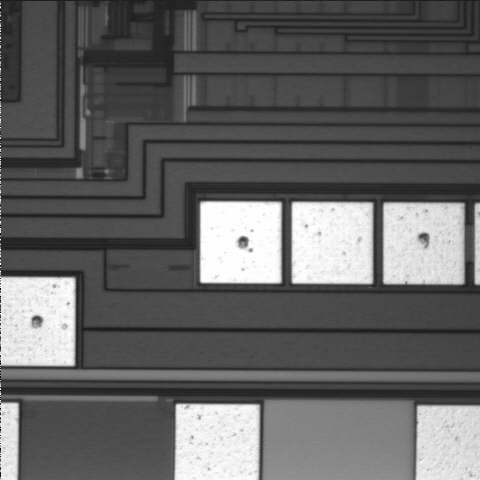pad: (292, 202, 373, 284), (200, 202, 281, 283), (383, 203, 464, 284)
